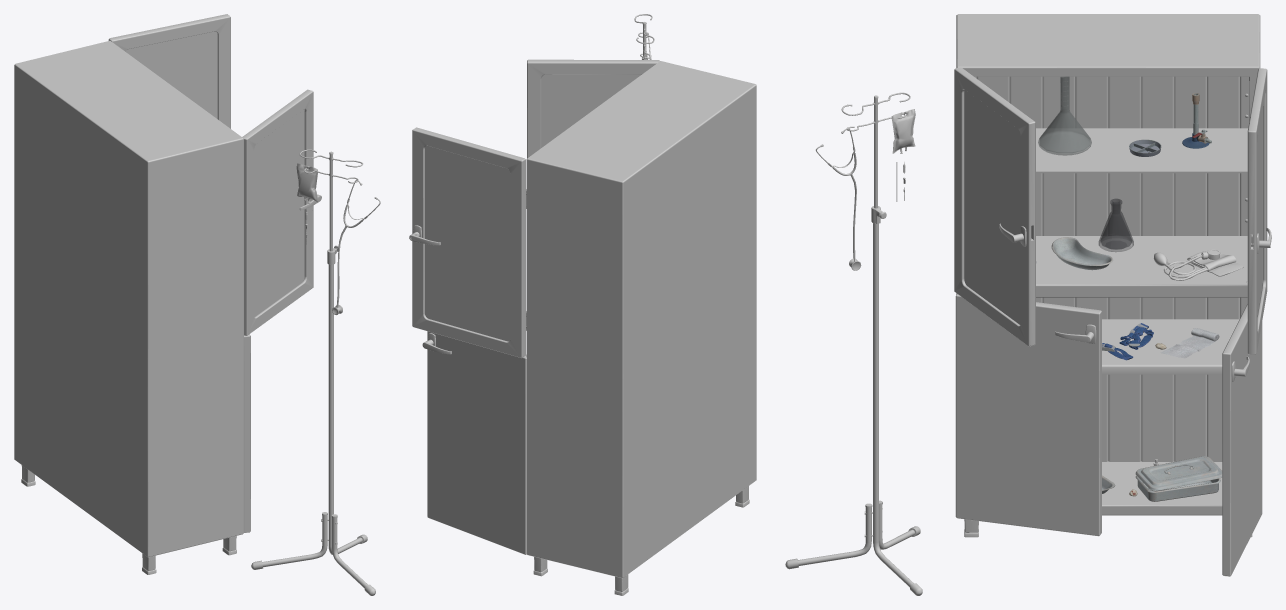
The picture shows the model from 3 angles, left to right: view 1: azimuth 30°, elevation 25°; view 2: azimuth 150°, elevation 25°; view 3: azimuth 270°, elevation 25°; orthographic projection. The views are drawn at different scales.
Visible parts, largest first — view 1: MedicalCabinet_28, MedicalCabinet_Door_Top_Glass_01_21, MedicalCabinet_Door_Top.001_23, MedicalCabinet_Door_Top_Glass_17, MedicalCabinet_Door_Top_20, Dripper_Main_9, MedicalCabinet_Door_Down_01_16, Dripper_Legs_7, MedicalCabinet_Legs_24, SalineBag_Insides_8; view 2: MedicalCabinet_28, MedicalCabinet_Door_Down_13, MedicalCabinet_Door_Top_Glass_17, MedicalCabinet_Door_Top_20, MedicalCabinet_Door_Top_Glass_01_21, MedicalCabinet_Door_Top.001_23, MedicalCabinet_Legs_24; view 3: MedicalCabinet_Plates_Mirrored_25, MedicalCabinet_28, MedicalCabinet_Door_Down_01_16, MedicalCabinet_Door_Top_Glass_01_21, MedicalCabinet_Shelf_Glass_26, MedicalCabinet_Door_Down_13, MedicalCabinet_Door_Top.001_23, MedicalCabinet_Shelf_Metal_27, MedicalCabinet_Door_Top_20, Dripper_Main_9, Flask_Big_30, MedcialTray_Box_Lid_36 (+8 smaller).
Boxes of the visible parts, x1=… form: MedicalCabinet_28: x1=14, y1=40, x2=243, y2=557; MedicalCabinet_Door_Top_Glass_01_21: x1=254, y1=109, x2=304, y2=316; MedicalCabinet_Door_Top.001_23: x1=242, y1=89, x2=313, y2=335; MedicalCabinet_Door_Top_Glass_17: x1=125, y1=31, x2=217, y2=118; MedicalCabinet_Door_Top_20: x1=108, y1=14, x2=230, y2=128; Dripper_Main_9: x1=299, y1=149, x2=367, y2=554; MedicalCabinet_Door_Down_01_16: x1=244, y1=334, x2=250, y2=532; Dripper_Legs_7: x1=251, y1=512, x2=375, y2=595; MedicalCabinet_Legs_24: x1=21, y1=465, x2=236, y2=574; SalineBag_Insides_8: x1=296, y1=163, x2=317, y2=203; MedicalCabinet_28: x1=526, y1=61, x2=756, y2=578; MedicalCabinet_Door_Down_13: x1=427, y1=331, x2=526, y2=554; MedicalCabinet_Door_Top_Glass_17: x1=425, y1=146, x2=510, y2=341; MedicalCabinet_Door_Top_20: x1=412, y1=127, x2=525, y2=357; MedicalCabinet_Door_Top_Glass_01_21: x1=541, y1=74, x2=641, y2=147; MedicalCabinet_Door_Top.001_23: x1=527, y1=59, x2=659, y2=158; MedicalCabinet_Legs_24: x1=533, y1=486, x2=749, y2=595; MedicalCabinet_Plates_Mirrored_25: x1=974, y1=76, x2=1248, y2=465; MedicalCabinet_28: x1=956, y1=14, x2=1260, y2=515; MedicalCabinet_Door_Down_01_16: x1=955, y1=294, x2=1101, y2=536; MedicalCabinet_Door_Top_Glass_01_21: x1=964, y1=90, x2=1020, y2=324; MedicalCabinet_Shelf_Glass_26: x1=1036, y1=128, x2=1247, y2=173; MedicalCabinet_Door_Down_13: x1=1222, y1=304, x2=1262, y2=576; MedicalCabinet_Door_Top.001_23: x1=954, y1=67, x2=1035, y2=346; MedicalCabinet_Shelf_Metal_27: x1=1102, y1=319, x2=1239, y2=374; MedicalCabinet_Door_Top_20: x1=1247, y1=68, x2=1267, y2=354; Dripper_Main_9: x1=841, y1=92, x2=922, y2=595; Flask_Big_30: x1=1038, y1=76, x2=1091, y2=155; MedcialTray_Box_Lid_36: x1=1135, y1=456, x2=1222, y2=490.
Bounding box in the file's own units: 0.9162 × 1.72 × 1.6.
